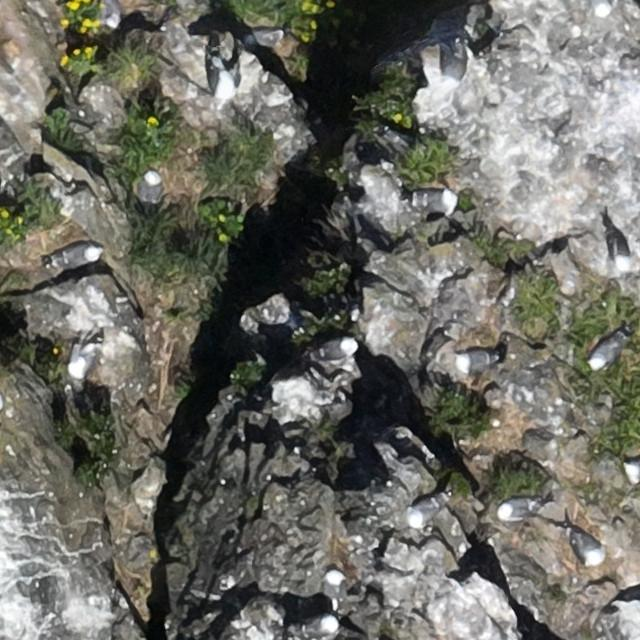umineko: (439, 38, 469, 100), (214, 48, 239, 99), (300, 615, 341, 640), (52, 246, 97, 268), (573, 533, 602, 565), (590, 336, 620, 366), (69, 346, 94, 380), (408, 498, 442, 522), (321, 339, 358, 360), (419, 190, 455, 210), (499, 500, 534, 520), (459, 352, 494, 372), (321, 568, 341, 603), (139, 172, 159, 205), (612, 233, 630, 264), (102, 1, 120, 28), (250, 30, 280, 46), (626, 462, 639, 485)
